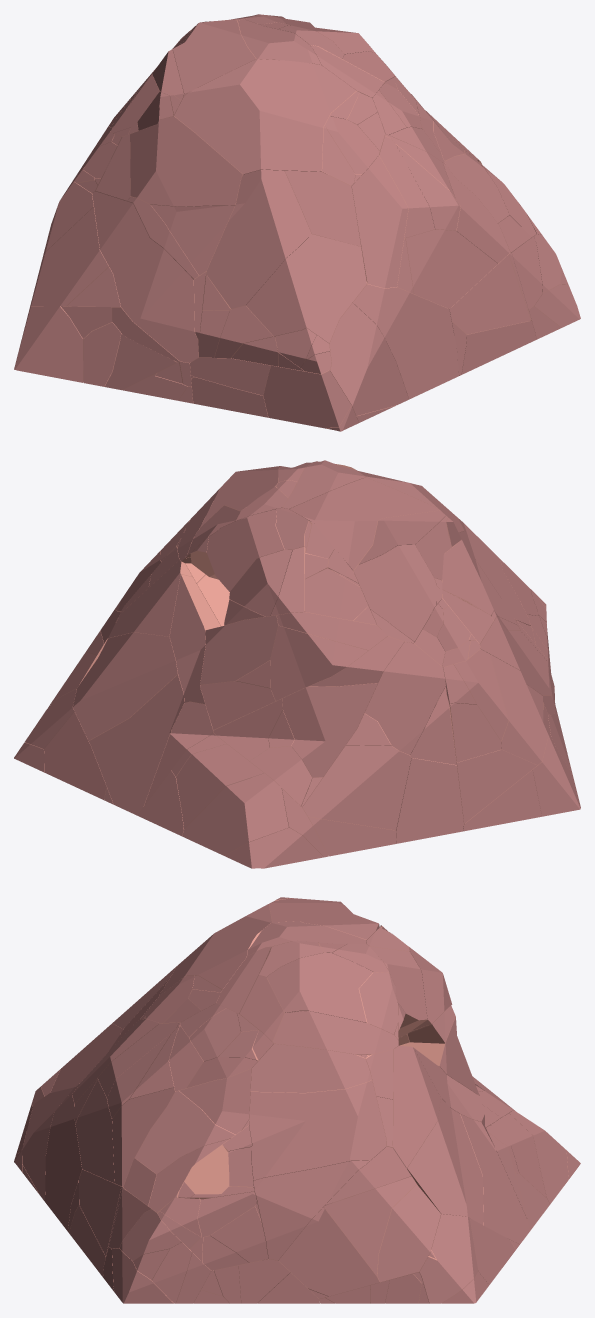
Rendered from MinableRockTest1.fbx.
3 views of the same model, one above another, from view 1: azimuth 30°, elevation 25°; view 2: azimuth 150°, elevation 25°; view 3: azimuth 270°, elevation 25° (orthographic).
Parts seen in each view (by area): view 1: FullRock_cell.198, FullRock_cell.195, FullRock_cell.244_cell.007, FullRock_cell.244_cell.004, FullRock_cell.264_cell.007, FullRock_cell.278_cell.001, FullRock_cell.278_cell, FullRock_cell.188, FullRock_cell.246_cell.006, FullRock_cell.269_cell.003, FullRock_cell.273_cell, FullRock_cell.280_cell.004 (+51 smaller); view 2: FullRock_cell.254_cell.005, FullRock_cell.265_cell.006, FullRock_cell.254_cell.001, FullRock_cell.214, FullRock_cell.256_cell.006, FullRock_cell.265_cell, FullRock_cell.267_cell.006, FullRock_cell.223_cell.004, FullRock_cell.265_cell.005, FullRock_cell.249_cell.004, FullRock_cell.249_cell.005, FullRock_cell.254_cell.002 (+55 smaller); view 3: FullRock_cell.247_cell, FullRock_cell.254_cell.005, FullRock_cell.247_cell.003, FullRock_cell.250_cell, FullRock_cell.234_cell.001, FullRock_cell.247_cell.006, FullRock_cell.254_cell.007, FullRock_cell.234_cell.006, FullRock_cell.261_cell.004, FullRock_cell.250_cell.003, FullRock_cell.234_cell.004, FullRock_cell.198 (+62 smaller).
Part boxes in pixels (x1,y1,x2,y2): FullRock_cell.198: (174,59,356,174); FullRock_cell.195: (92,191,198,362); FullRock_cell.244_cell.007: (206,169,311,309); FullRock_cell.244_cell.004: (246,234,366,343); FullRock_cell.264_cell.007: (130,116,242,206); FullRock_cell.278_cell.001: (352,282,458,399); FullRock_cell.278_cell: (329,303,408,415); FullRock_cell.188: (351,155,408,288); FullRock_cell.246_cell.006: (405,229,497,308); FullRock_cell.269_cell.003: (31,207,108,306); FullRock_cell.273_cell: (263,365,351,428); FullRock_cell.280_cell.004: (14,306,83,382); FullRock_cell.254_cell.005: (72,632,177,740); FullRock_cell.265_cell.006: (302,745,411,830); FullRock_cell.254_cell.001: (88,674,184,815); FullRock_cell.214: (289,477,439,571); FullRock_cell.256_cell.006: (282,683,377,777); FullRock_cell.265_cell: (364,642,445,754); FullRock_cell.267_cell.006: (182,773,288,855); FullRock_cell.223_cell.004: (353,544,436,642); FullRock_cell.265_cell.005: (396,757,463,843); FullRock_cell.249_cell.004: (270,626,368,700); FullRock_cell.249_cell.005: (200,615,286,684); FullRock_cell.254_cell.002: (169,574,220,704); FullRock_cell.247_cell: (249,1080,386,1180); FullRock_cell.254_cell.005: (407,1097,483,1225); FullRock_cell.247_cell.003: (253,1160,370,1260); FullRock_cell.250_cell: (266,952,373,1022); FullRock_cell.234_cell.001: (278,1207,379,1296); FullRock_cell.247_cell.006: (250,1044,371,1092); FullRock_cell.254_cell.007: (393,1045,440,1168); FullRock_cell.234_cell.006: (377,1184,440,1282); FullRock_cell.261_cell.004: (135,1090,235,1174); FullRock_cell.250_cell.003: (272,1011,398,1054); FullRock_cell.234_cell.004: (324,1176,416,1277); FullRock_cell.198: (158,904,272,996).
Bounding box in the file's own units: 450 × 244 × 470.
